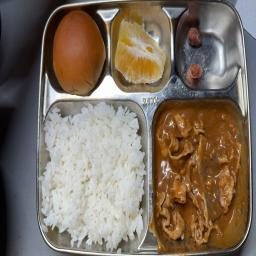100_beef: (156, 106, 242, 246)
100_bread: (51, 6, 105, 94)
100_orange: (112, 9, 168, 87)
100_rice: (43, 102, 146, 248)
25_nuts: (177, 12, 230, 88)
